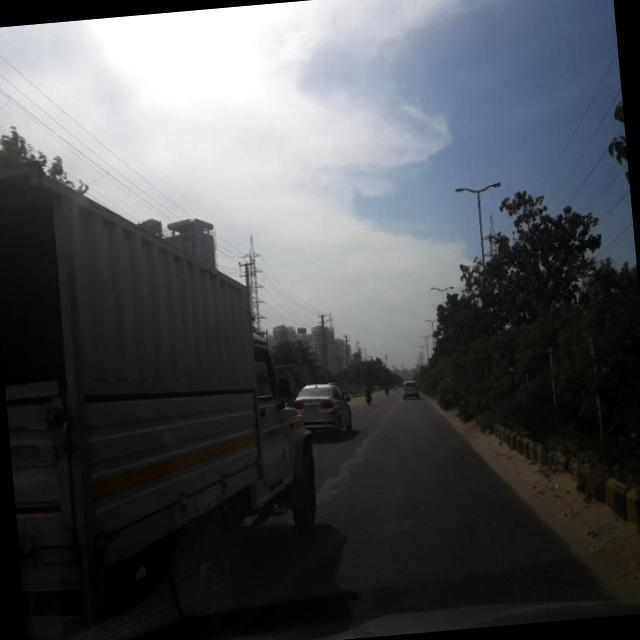crack: (297, 458, 435, 616), (447, 448, 585, 604)
